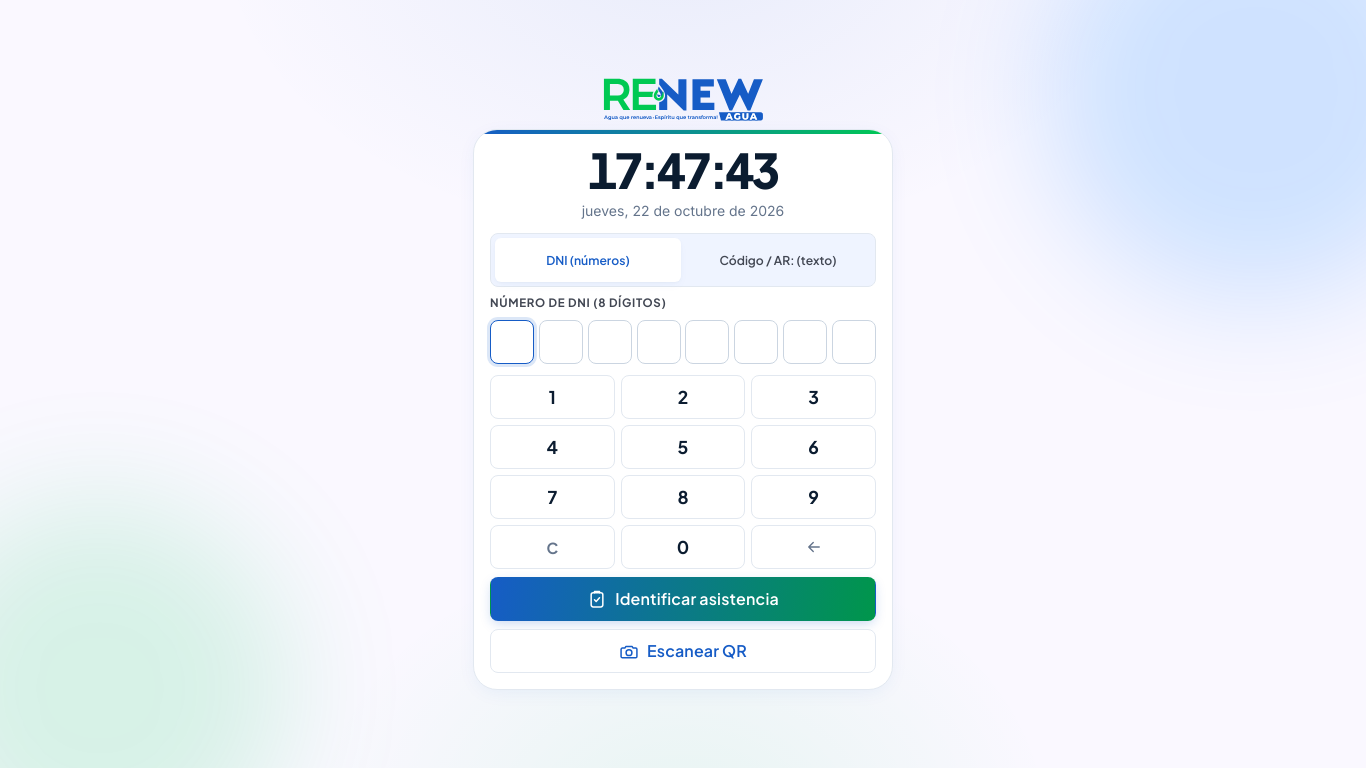
kiosk identifier keyboard › keeps the native text keyboard for worker codes and restores DNI mode
Click the button "Código / AR: (texto)".
click(778, 260)  # box [685,238,871,282]
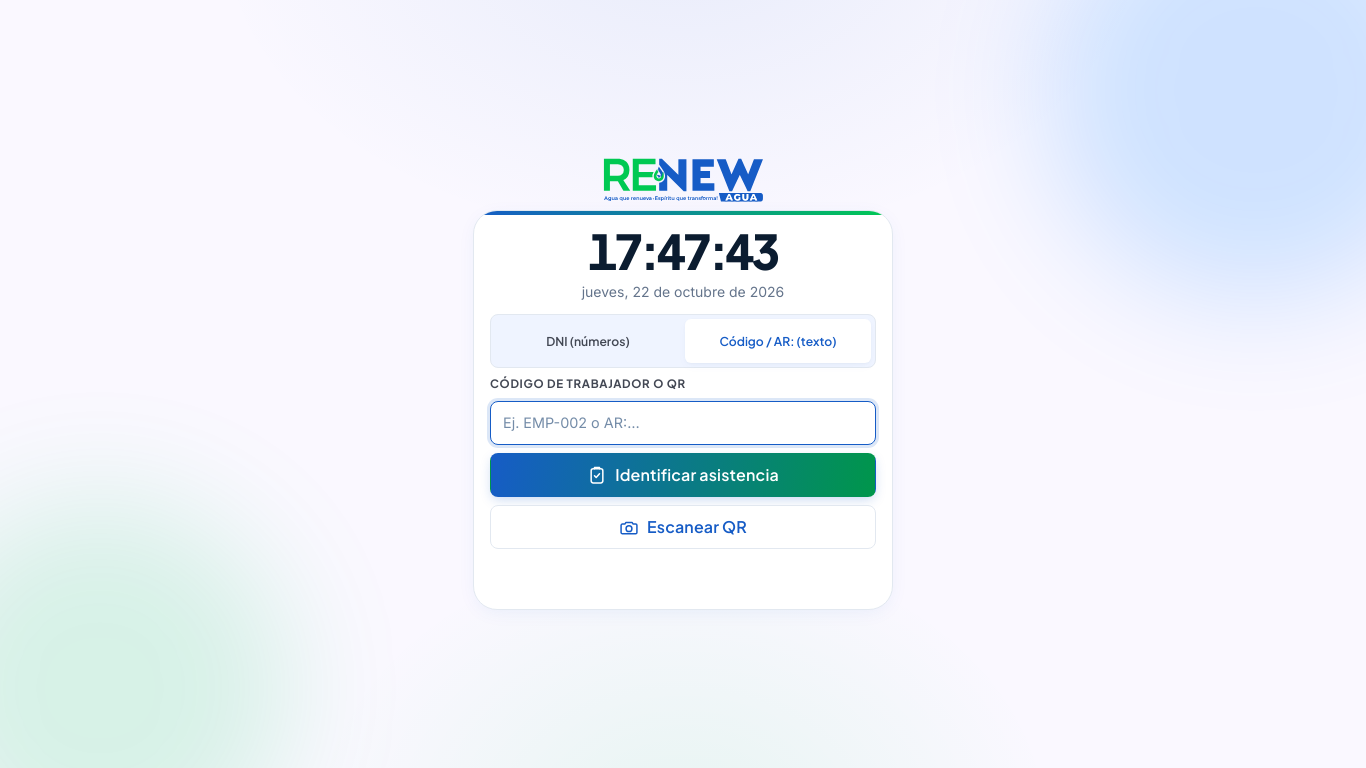
Type "EMP-002" into the field with test id "kiosk-identifier".
click(683, 423); type("EMP-002")  # box [490,401,876,445]
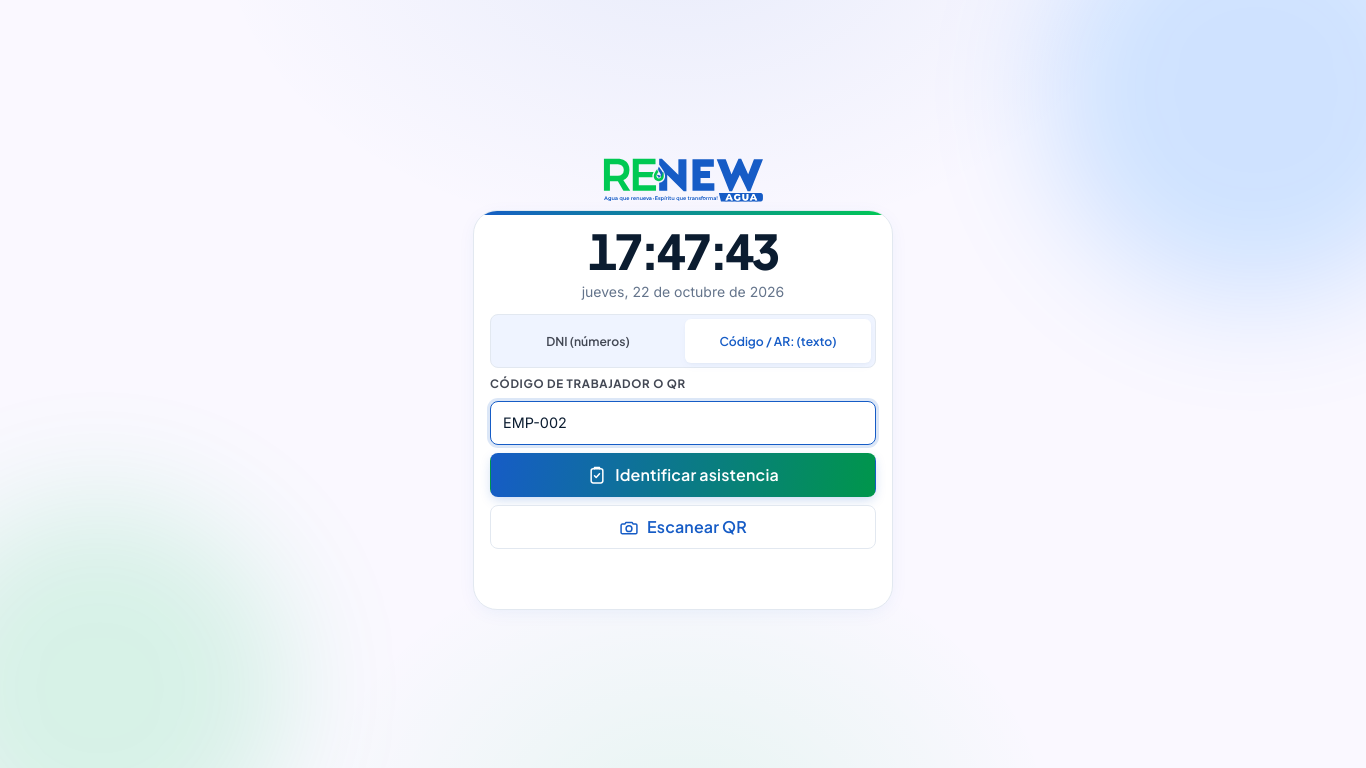
Click the button "DNI (números)".
click(588, 341)  # box [495,319,681,363]
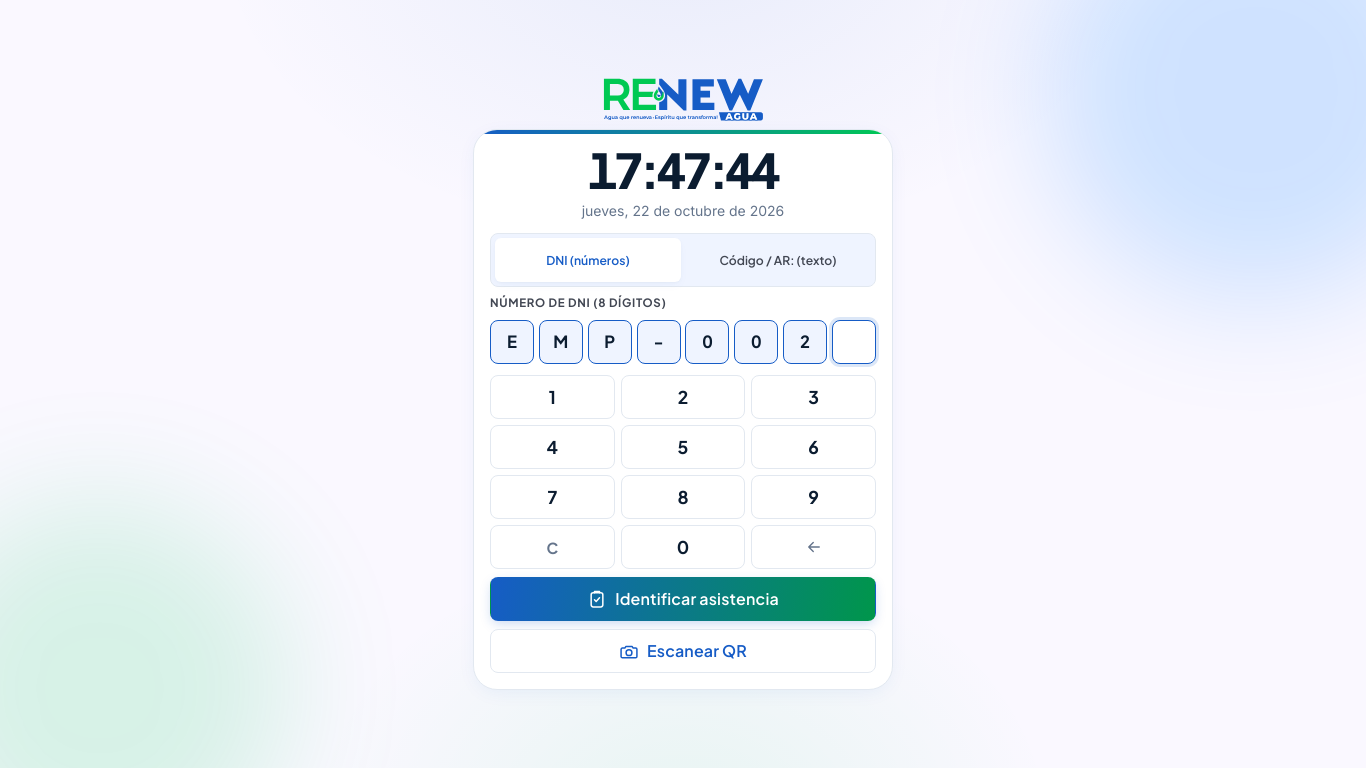
Now the element named "Teclado numérico" is shown, box [490,364,876,569]
